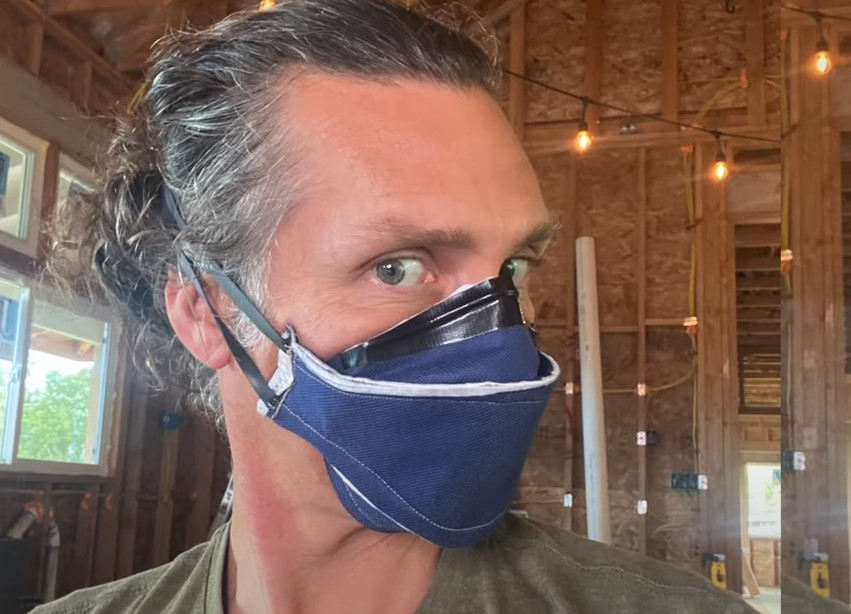face_with_mask: (149, 35, 568, 556)
